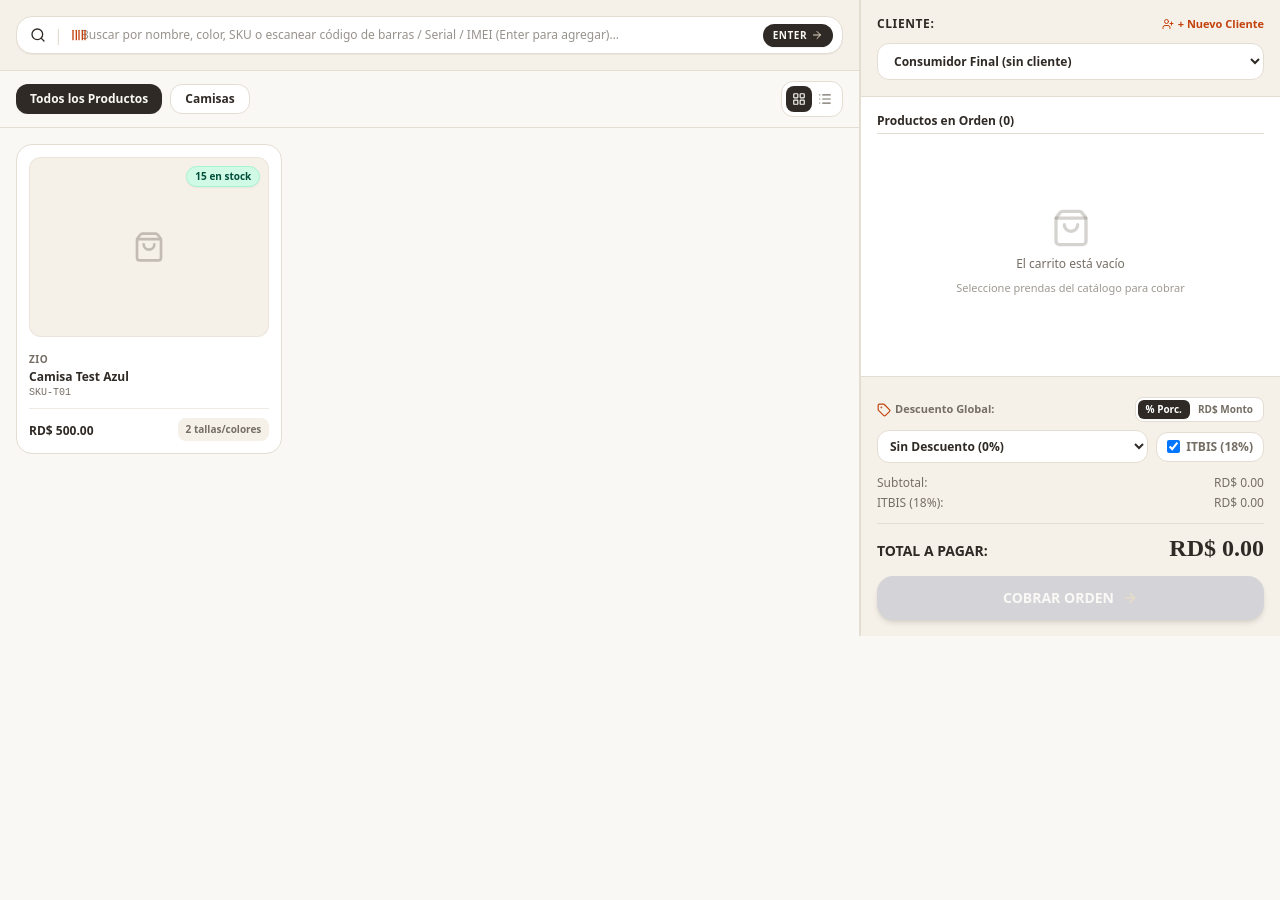
Test: POSView -- misma lógica de datos/carrito en ambos modos › un producto con variantes conserva exactamente la misma lógica existente de color/talla -> stock en ambos modos
Click the heading "Camisa Test Azul" at [79, 377], box [29, 368, 129, 385]
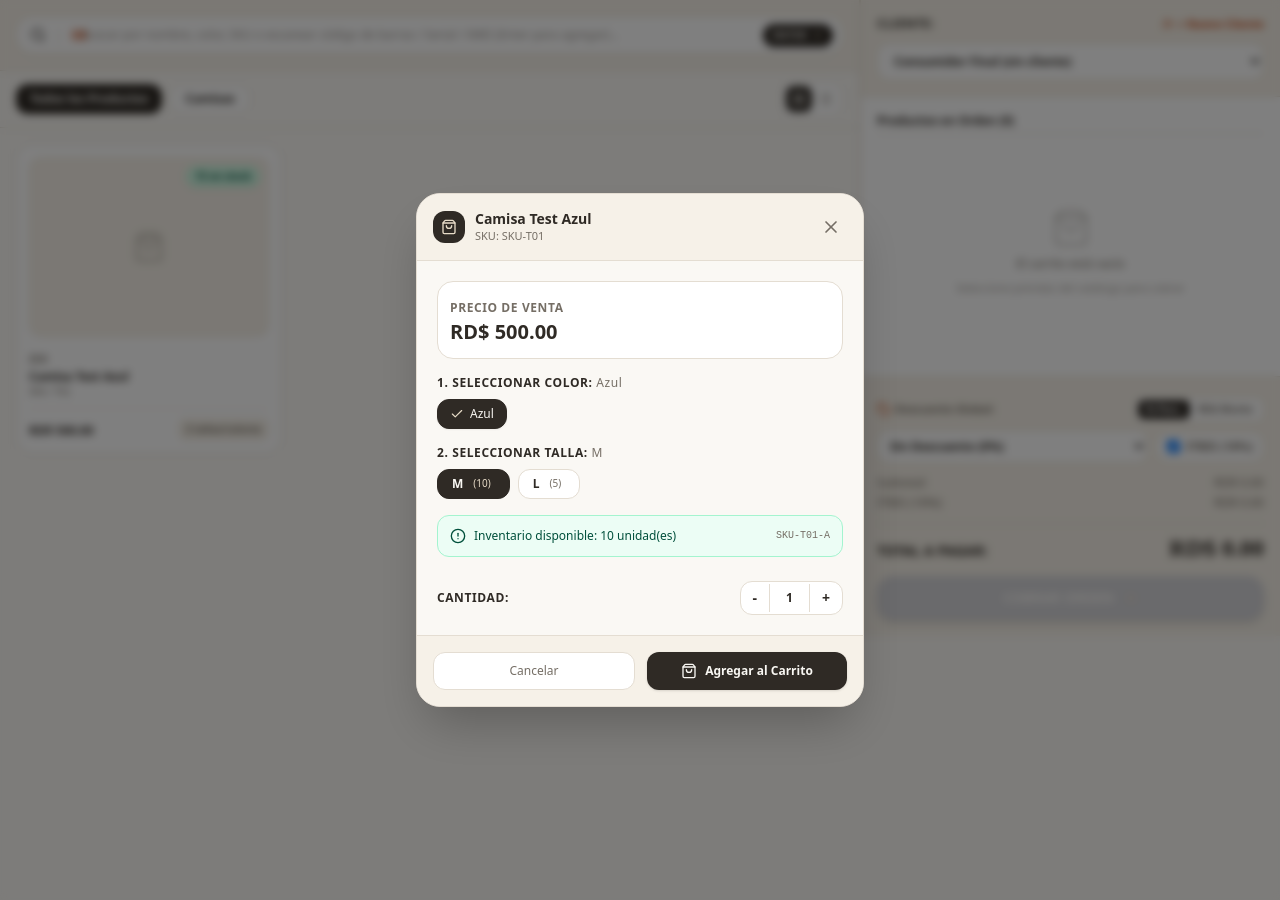
Check: the text "Inventario disponible: 10 unidad(es)" is shown, box [474, 528, 676, 544]
Click the text "L" at [536, 484], box [533, 476, 540, 492]
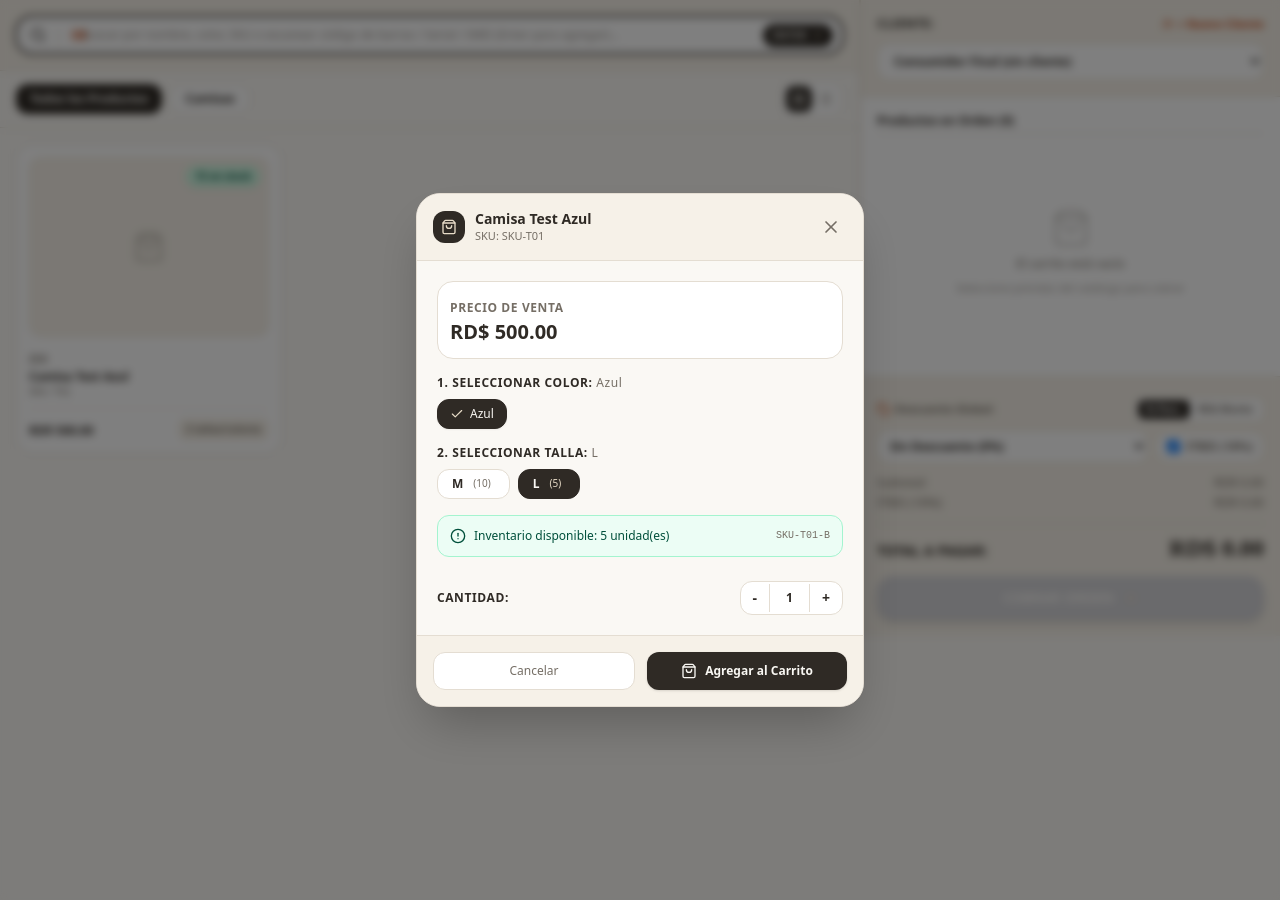
Check: the text "Inventario disponible: 5 unidad(es)" is shown, box [474, 528, 669, 544]
